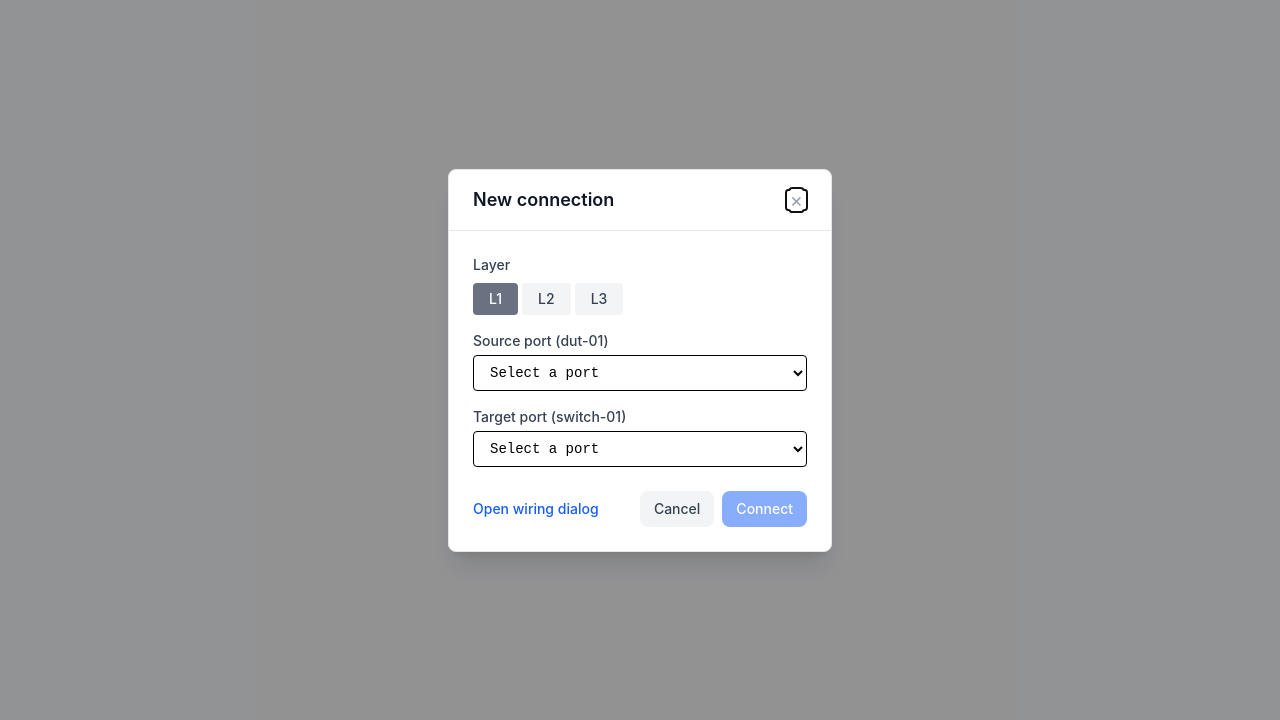
Test: QuickConnectPopover - cabling semantics › disables Connect until both ports are selected
Check: the button "Connect" is disabled, box [722,490,807,526]
Select "eth1 (no cable)" in the dropdown below "Source port (" at (640, 372), box [473,354,807,390]
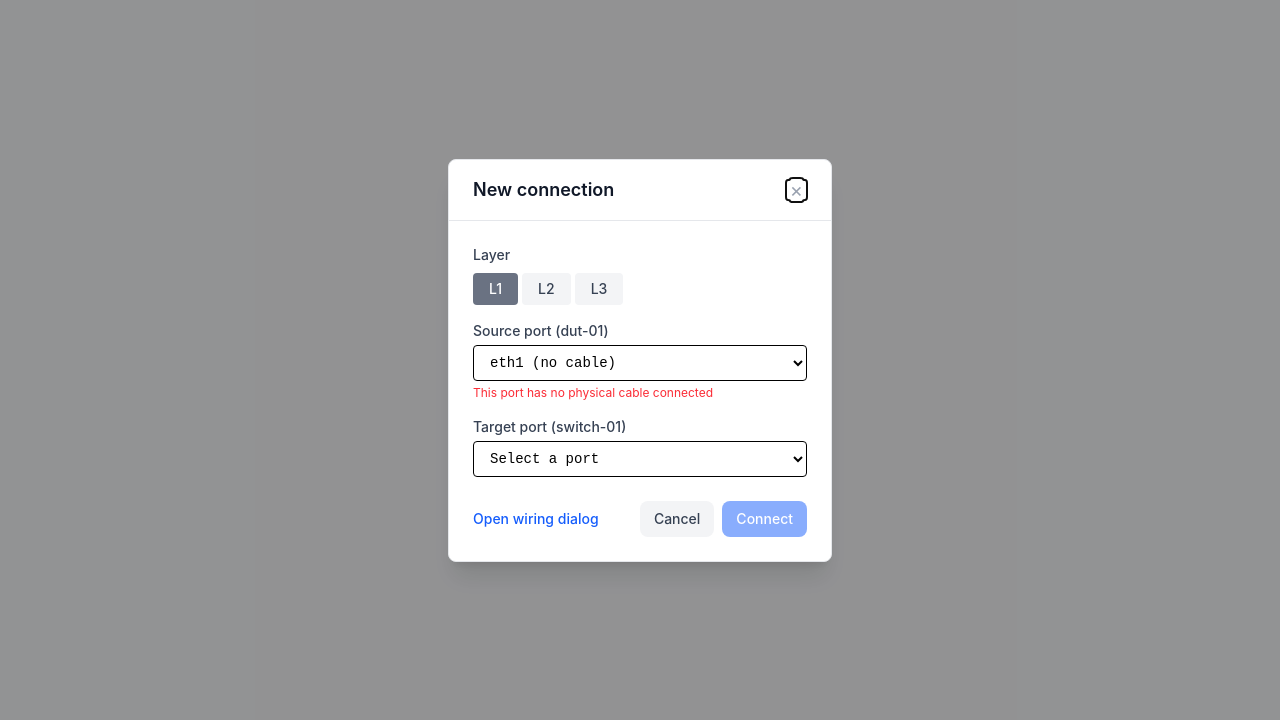
Check: the button "Connect" is disabled, box [722,500,807,536]
Select "0/0/1 (no cable)" in the dropdown below "Target port (" at (640, 458), box [473,440,807,476]
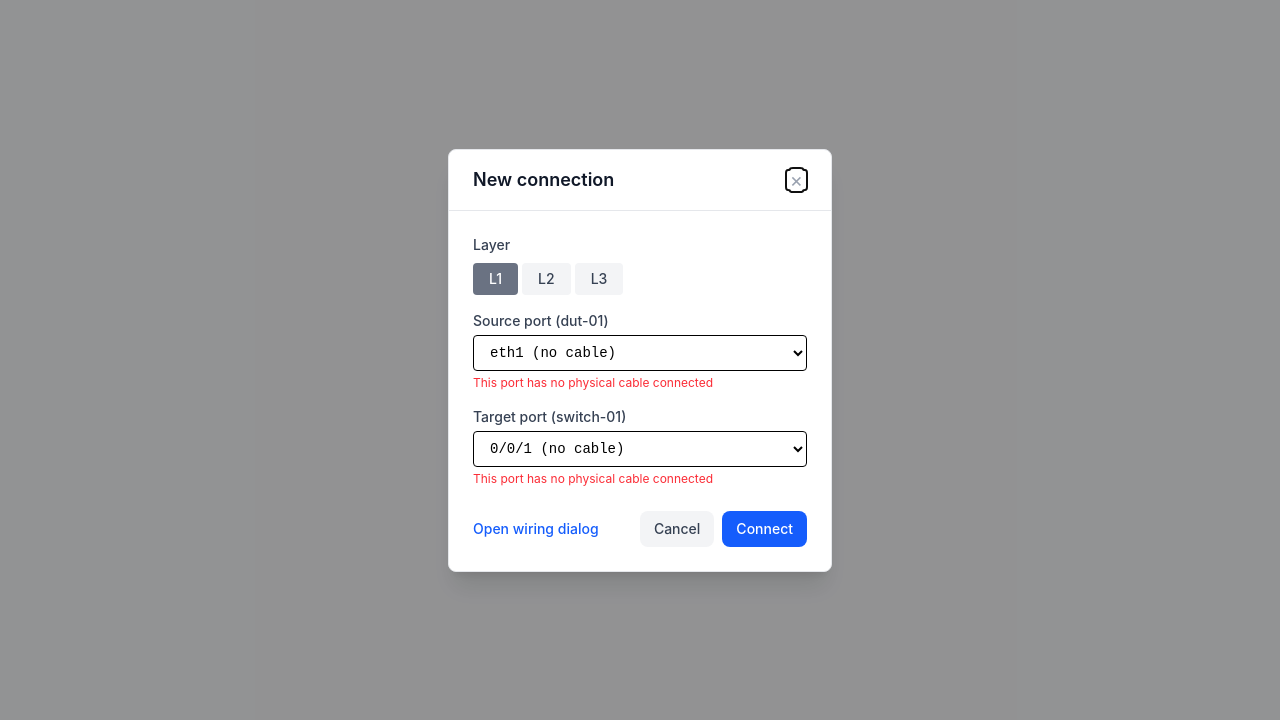
Check: the button "Connect" is enabled, box [722,510,807,546]
